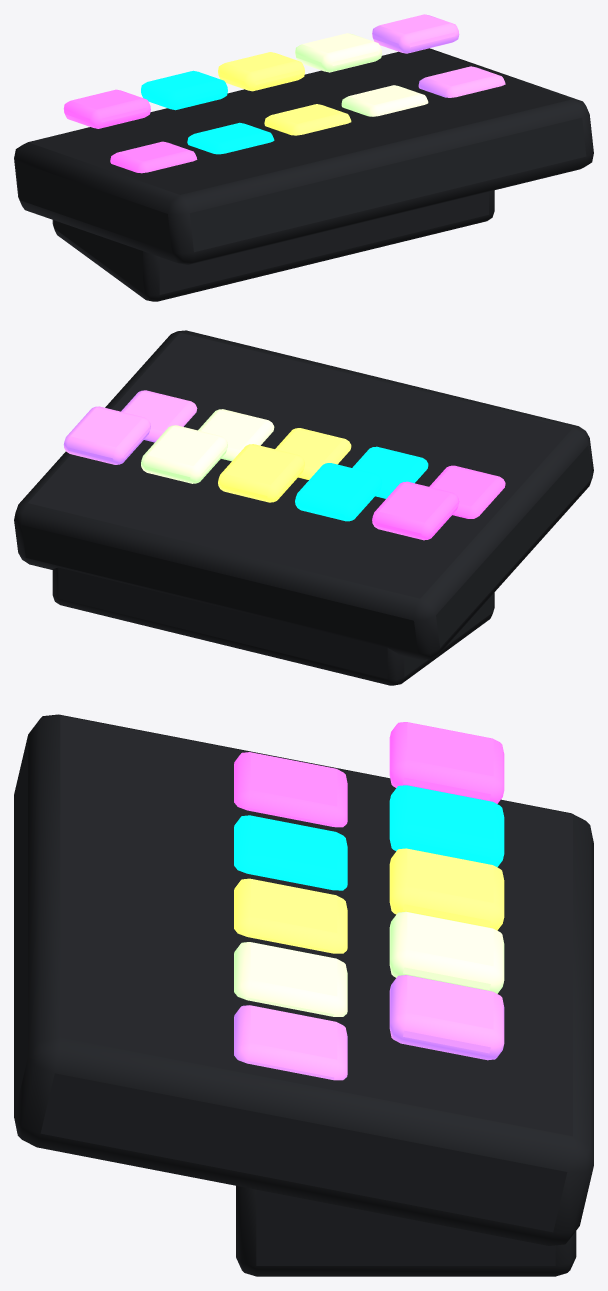
The model's file is stream_deck.fbx.
The picture shows the model from 3 angles, top to bottom: view 1: azimuth 30°, elevation 25°; view 2: azimuth 150°, elevation 25°; view 3: azimuth 270°, elevation 25°; orthographic projection. The views are drawn at different scales.
Visible parts, largest first — view 1: MacroPad; view 2: MacroPad; view 3: MacroPad.
Boxes of the visible parts, left/top/right/bottom form: MacroPad: left=14, top=14, right=593, bottom=301; MacroPad: left=14, top=330, right=593, bottom=685; MacroPad: left=14, top=714, right=593, bottom=1276.
Size of the model in its own units: 0.12 by 0.0443 by 0.0852.
